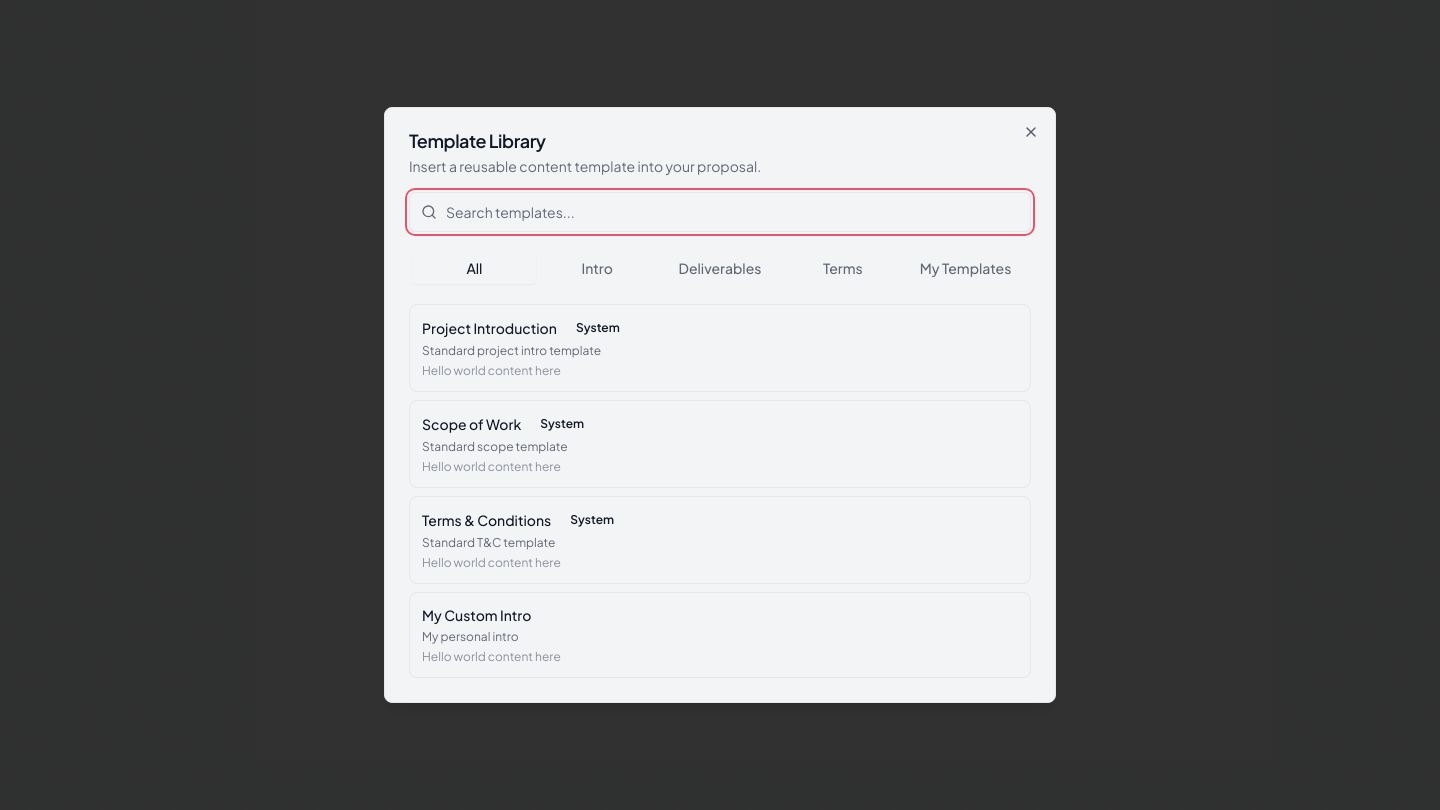
Test case: TemplateLibrary › filters templates by search query
The image size is (1440, 810).
Type "Scope" into the field with placeholder "Search templates..." at [720, 212], box [409,192,1031,232]
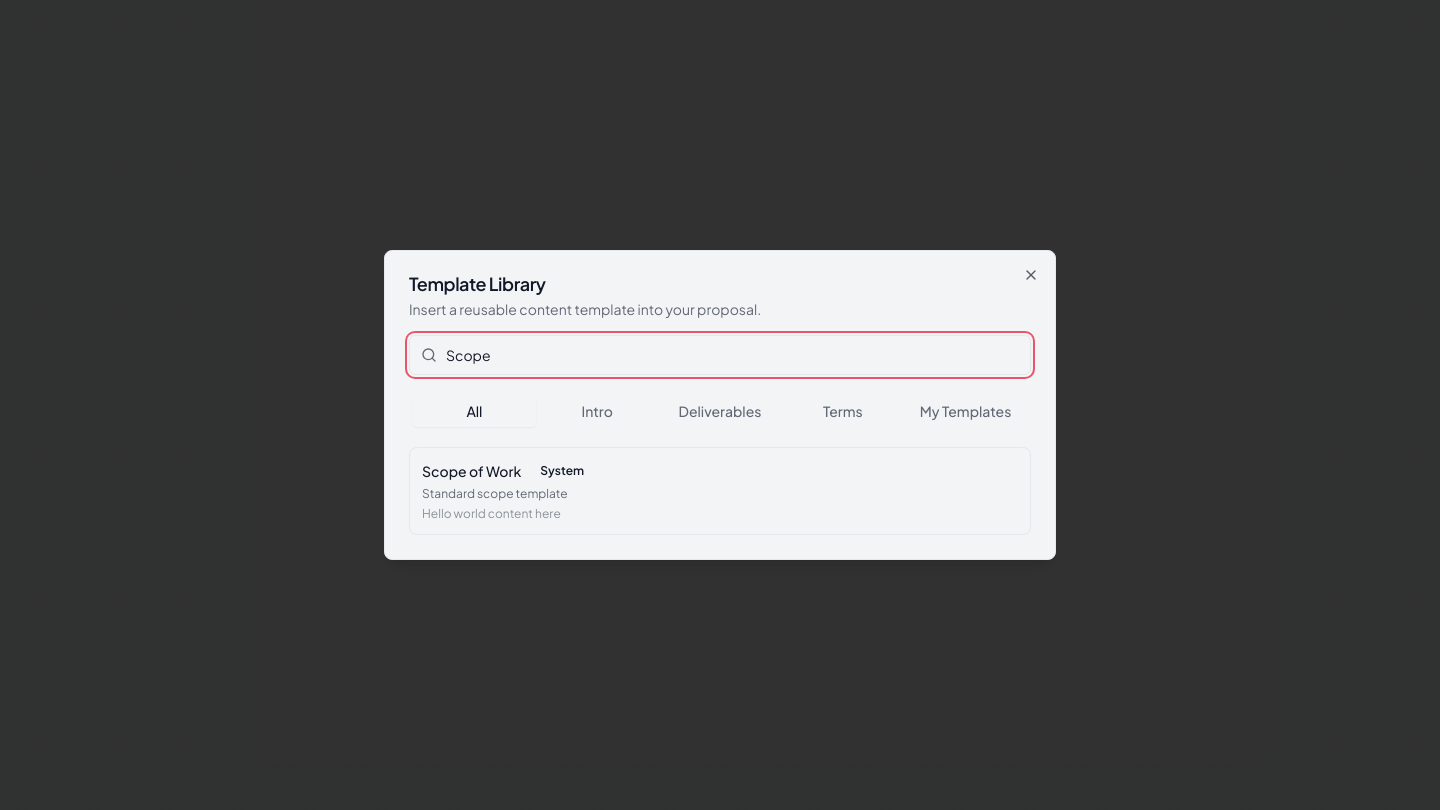
Expected: the text "Scope of Work" is shown, [422,461,521,481]
Result: the button "Project Introduction" is gone
Result: the button "Terms & Conditions" is gone
